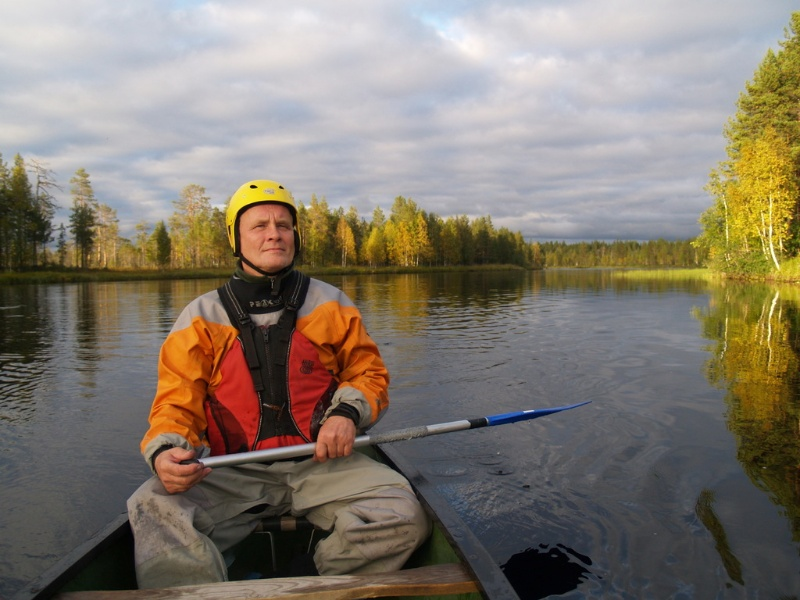Baret: (227, 178, 299, 222)
